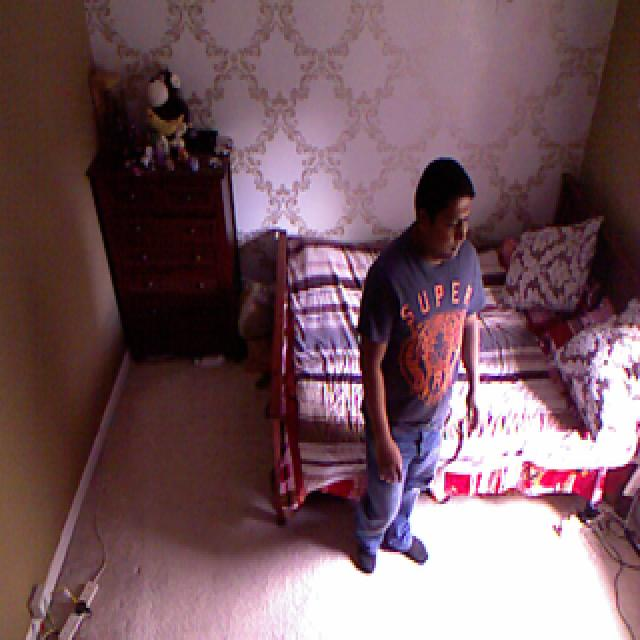standing: (345, 147, 493, 598)
